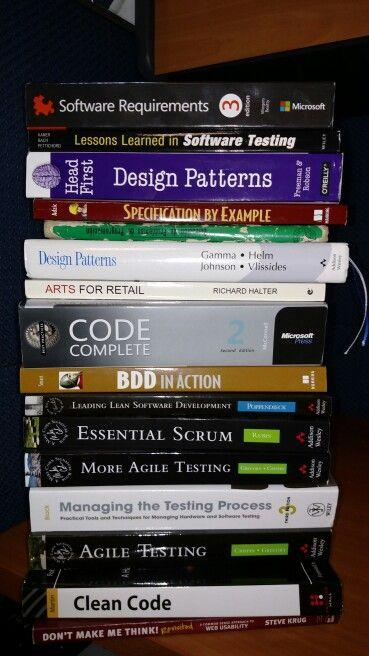book: (28, 477, 342, 532), (35, 565, 341, 621), (33, 152, 343, 200), (30, 80, 337, 127), (29, 239, 346, 281), (34, 530, 334, 570), (30, 449, 333, 488), (28, 414, 329, 450), (21, 365, 328, 395), (36, 199, 340, 225), (35, 128, 337, 154), (28, 391, 329, 417), (26, 281, 335, 305), (37, 232, 333, 253), (45, 221, 326, 241), (29, 77, 338, 94)
